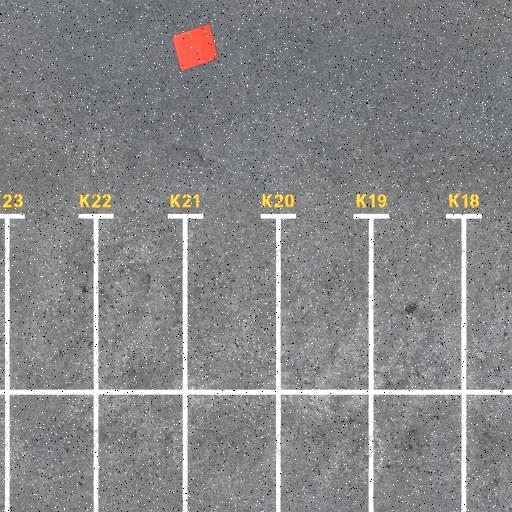RED_SQUARE: (172, 22, 219, 72)
